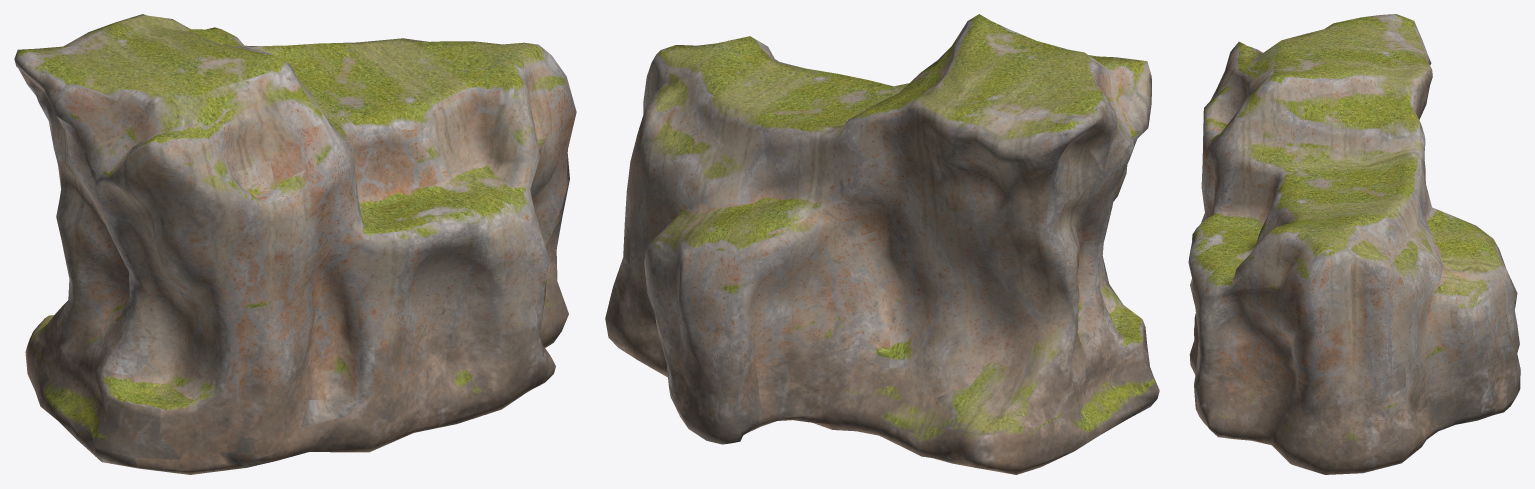
The model's file is Island_Wall_05_low.fbx.
3 views of the same model, side by side, from view 1: azimuth 30°, elevation 25°; view 2: azimuth 150°, elevation 25°; view 3: azimuth 270°, elevation 25° (orthographic). The views are drawn at different scales.
Parts seen in each view (by area): view 1: Island_Wall_04_low; view 2: Island_Wall_04_low; view 3: Island_Wall_04_low.
Part boxes in pixels (bbox=[...]): Island_Wall_04_low: bbox=[14, 14, 576, 474]; Island_Wall_04_low: bbox=[605, 14, 1159, 474]; Island_Wall_04_low: bbox=[1188, 14, 1520, 474].
Size of the model in its own units: 343 by 240 by 251.
Materials: 1 (1 with a texture image).
